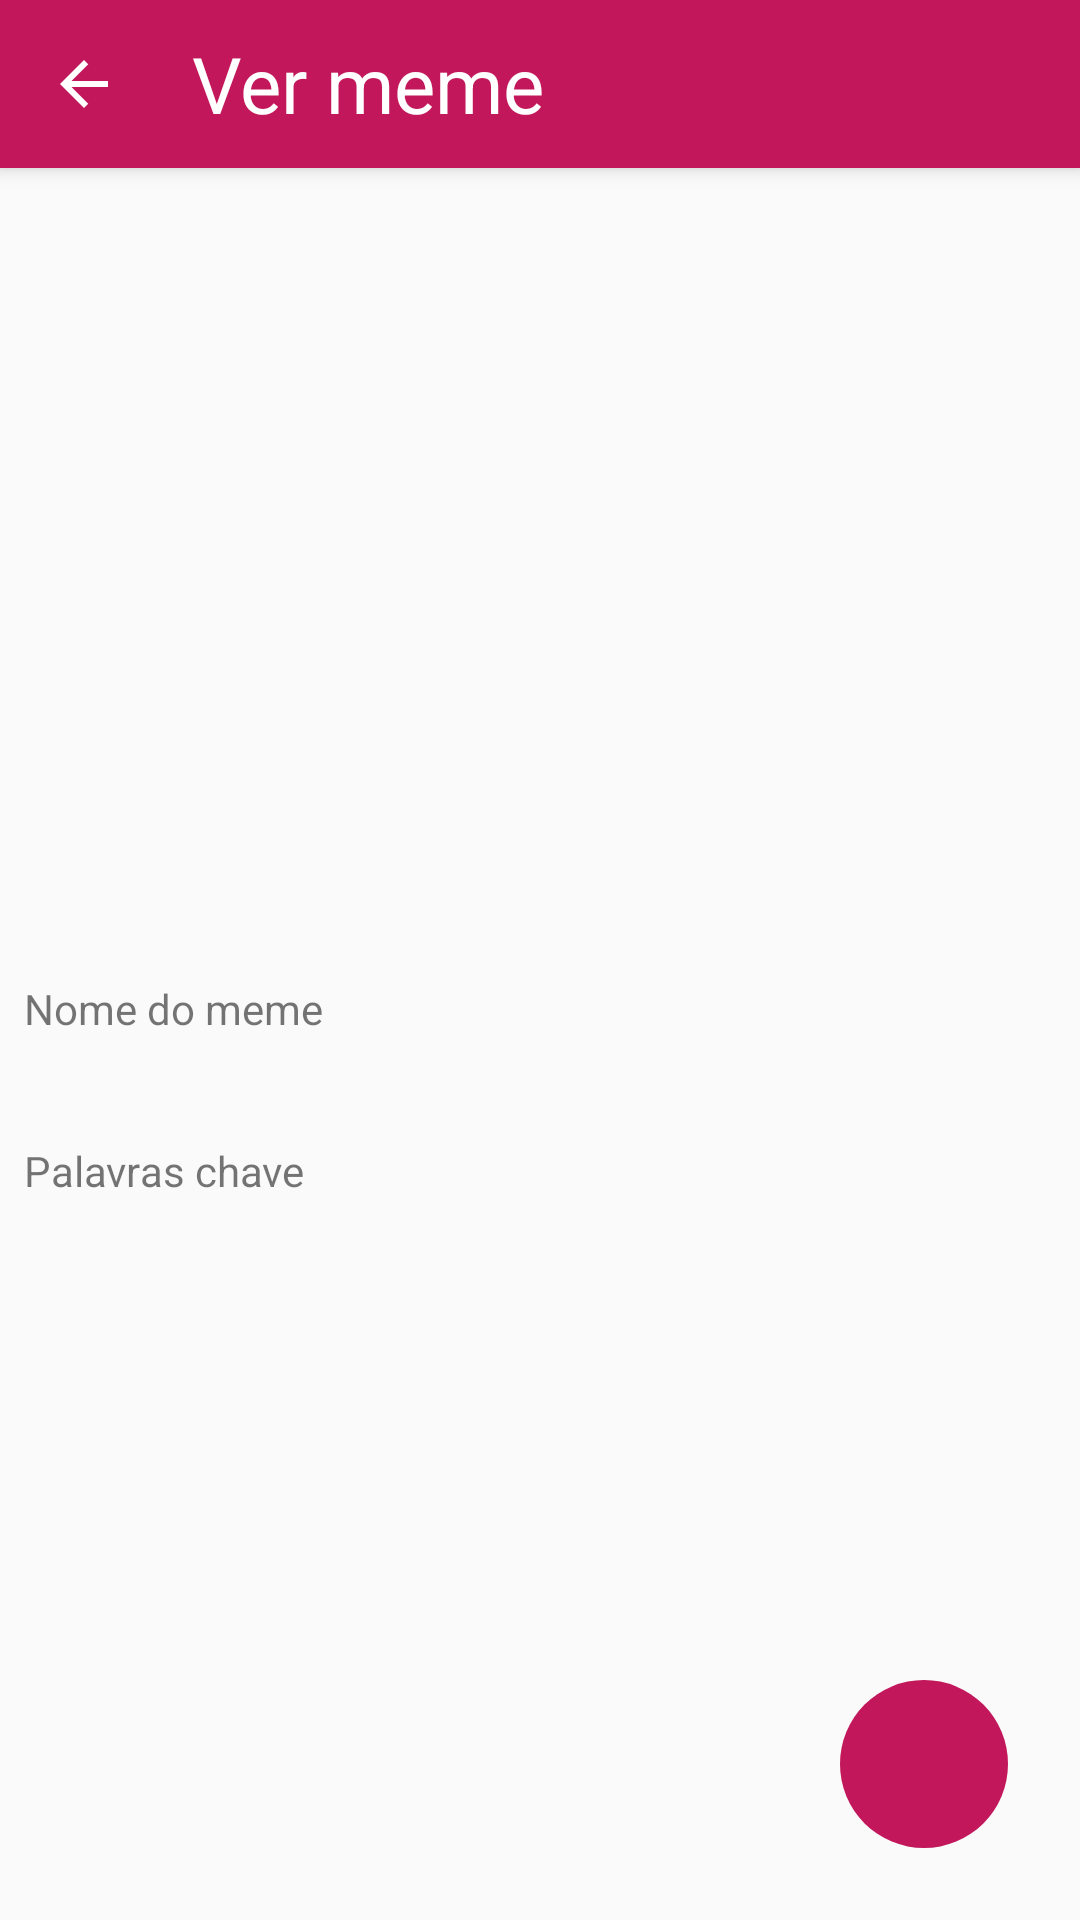

Named icons in this screenshot (1080px×1920px) and their centers, (x,y):
Voltar: (84,84)
